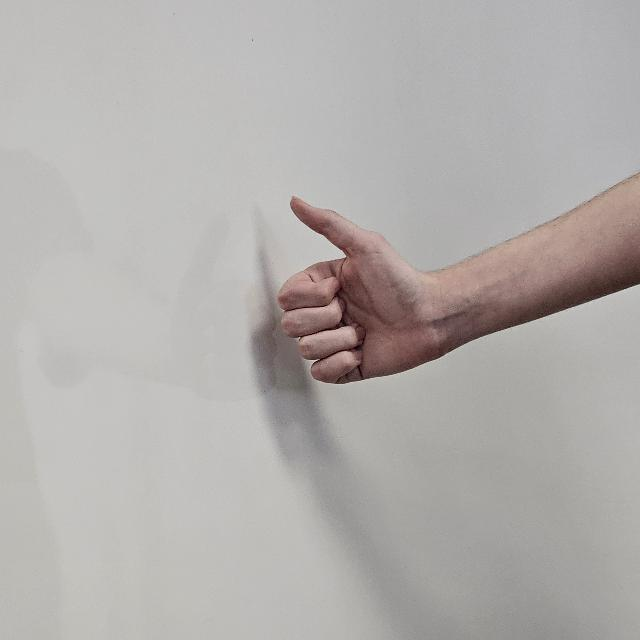Start: (274, 196, 466, 407)
